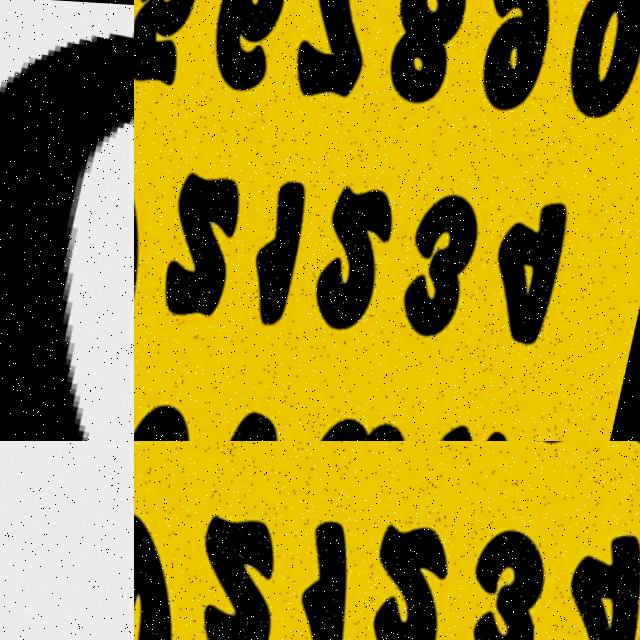0: (0, 0, 134, 441), (527, 0, 640, 161)
1: (223, 159, 339, 346), (274, 500, 384, 640)
2: (290, 163, 428, 346), (350, 501, 485, 640)
3: (375, 165, 514, 356), (446, 500, 581, 640)
4: (452, 155, 610, 387), (535, 488, 640, 640)
5: (134, 0, 238, 122)
6: (174, 0, 322, 124)
7: (261, 0, 409, 131)
8: (349, 0, 500, 134)
9: (445, 0, 588, 135)
V: (0, 441, 134, 640)
